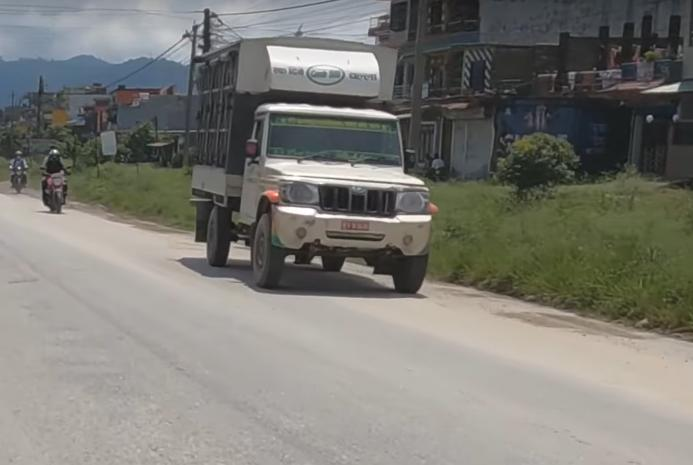bike: (33, 141, 79, 219), (4, 139, 32, 200)
transport_vehicle: (181, 31, 435, 299)
